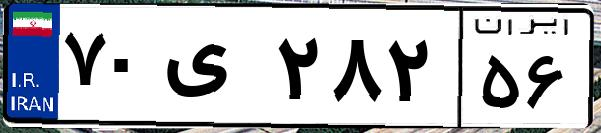0: (110, 28, 158, 98)
2: (270, 28, 330, 110), (385, 28, 445, 110)
5: (475, 38, 525, 113)
6: (525, 38, 570, 115)
7: (57, 26, 110, 100)
8: (330, 28, 385, 110)
ی: (158, 20, 270, 120)
